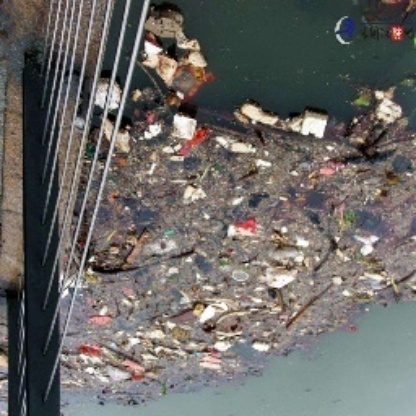plastic-bag: (158, 53, 216, 105)
